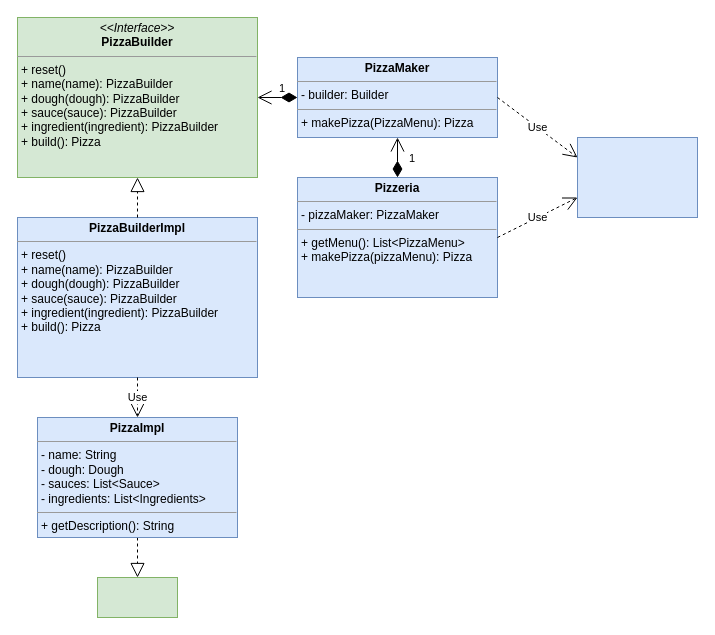
This 715x635 diagram has some shape labels left out. The box of each missing label's shape, as (x1, y1, x2, y2) in pixels:
<<enum>> PizzaMenu - name: String: (576, 136, 698, 218)
<<Interface>> Pizza: (96, 576, 178, 618)
